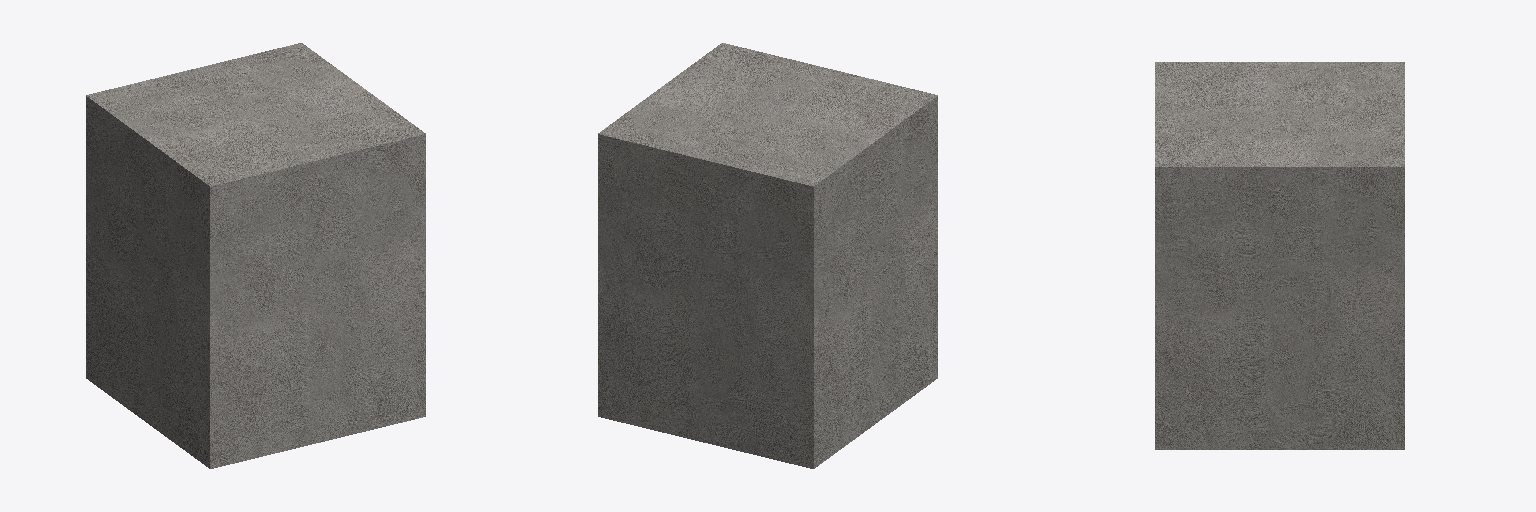
The picture shows the model from 3 angles: view 1: azimuth 30°, elevation 25°; view 2: azimuth 150°, elevation 25°; view 3: azimuth 270°, elevation 25°; orthographic projection.
Parts seen in each view (by area): view 1: 2x2x2,5; view 2: 2x2x2,5; view 3: 2x2x2,5.
Part boxes in pixels (x1,y1,x2,y2): 2x2x2,5: (86, 43, 425, 468); 2x2x2,5: (598, 43, 937, 468); 2x2x2,5: (1155, 62, 1404, 449).
Size of the model in its own units: 2 by 2.5 by 2.
Materials: 1 (1 with a texture image).